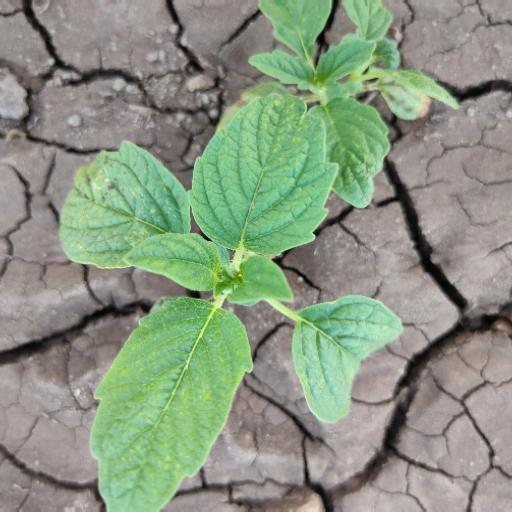crop: (36, 88, 422, 512), (239, 4, 449, 201)
